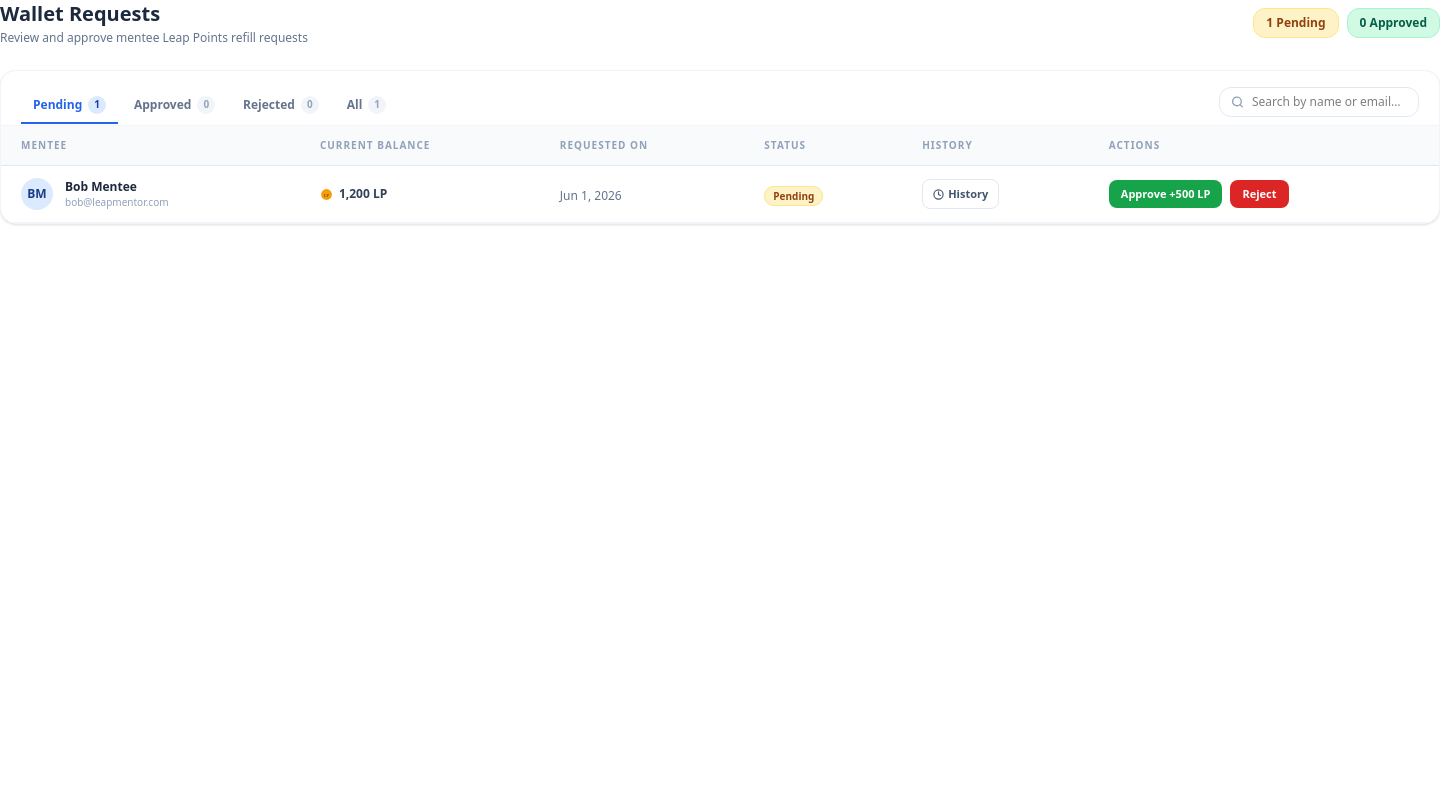
Test case: AdminWalletRequests › shows empty state inside modal when mentee has no engagements
Expected: the text "Bob Mentee" is shown, [65,178,137,194]
Click the button "History". click: (961, 194)
box: [922,179,999,209]
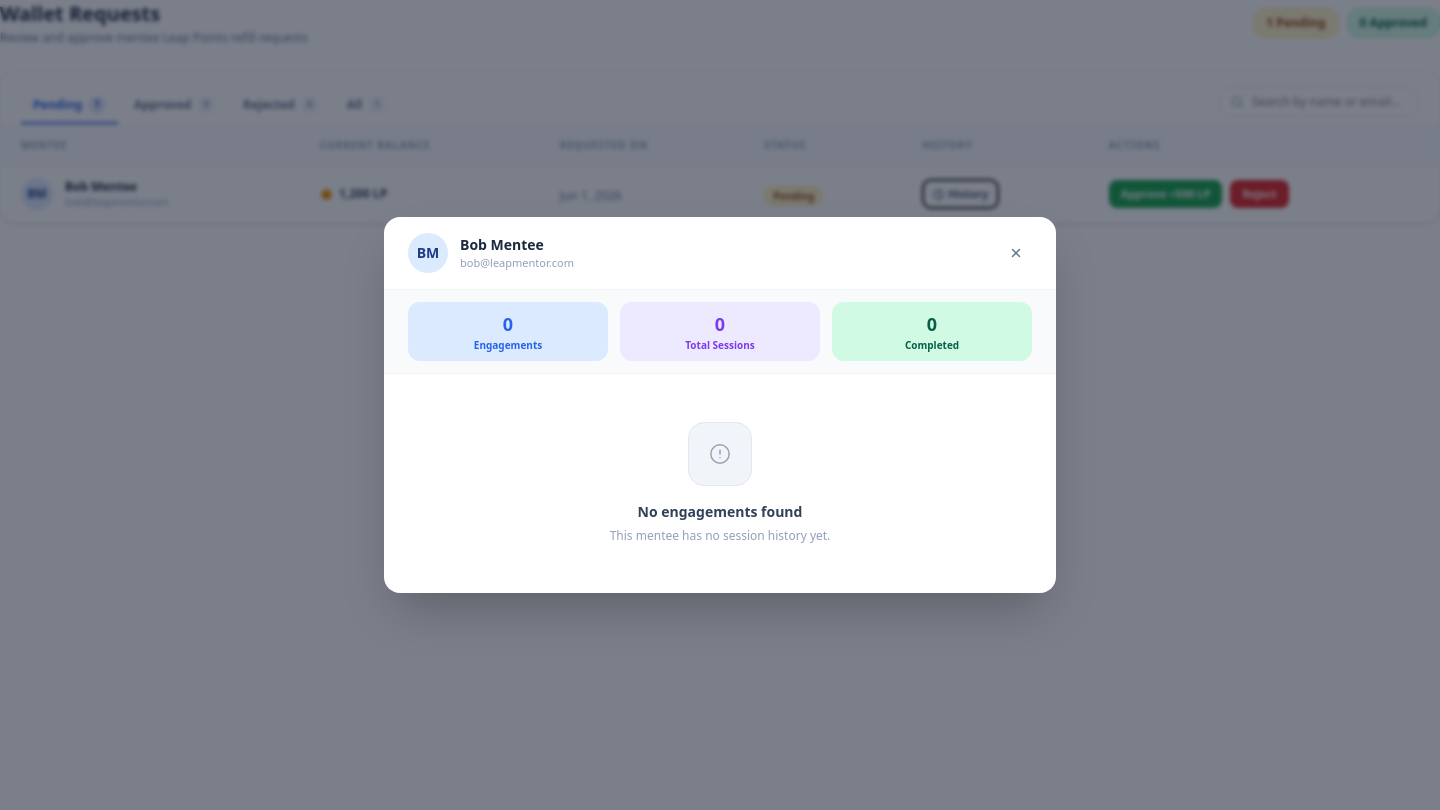
Expected: the text "No engagements found" is shown, [638,502,802,521]
Expected: the text "This mentee has no session history yet." is shown, [610,526,830,545]
